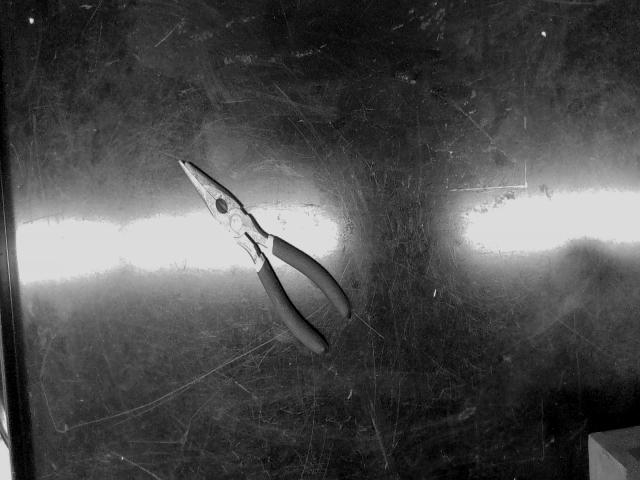Needle-nose pliers: (180, 161, 351, 353)
